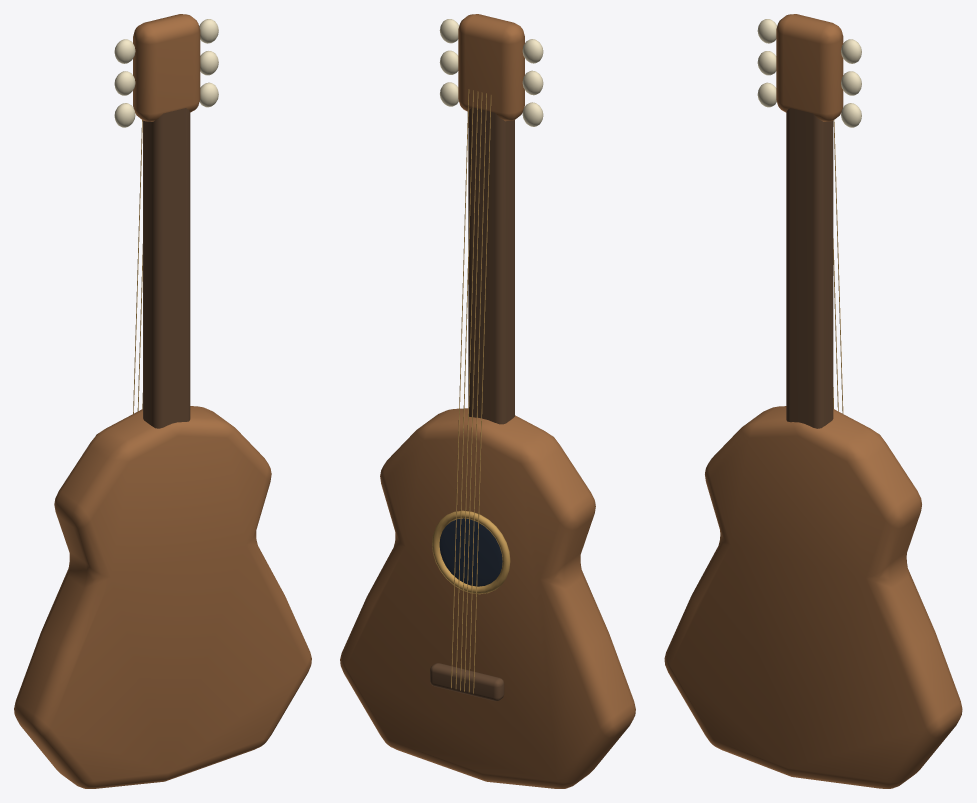
File: wall_guitar.glb
3 views of the same model, side by side, from view 1: azimuth 30°, elevation 25°; view 2: azimuth 150°, elevation 25°; view 3: azimuth 330°, elevation 25° (orthographic).
Parts seen in each view (by area): view 1: House07_wall_guitar; view 2: House07_wall_guitar; view 3: House07_wall_guitar.
Boxes of the visible parts, x1,y1,x2,y2 form: House07_wall_guitar: (14, 14, 311, 788); House07_wall_guitar: (340, 14, 635, 788); House07_wall_guitar: (664, 14, 962, 788).
Bounding box in the file's own units: 0.5478 × 1.42 × 0.1407.
